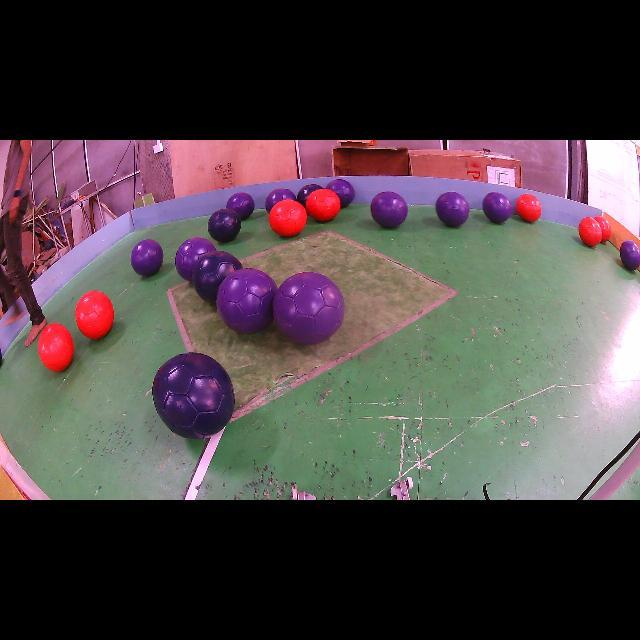B: (152, 352, 235, 439), (192, 251, 242, 304), (208, 209, 241, 242), (296, 184, 322, 208)
P: (272, 271, 345, 345), (216, 268, 278, 334), (175, 236, 216, 282), (371, 191, 408, 228), (130, 239, 164, 276), (435, 191, 469, 227), (482, 192, 512, 223), (326, 179, 355, 208), (226, 192, 255, 220), (265, 189, 296, 212), (620, 240, 640, 270)
R: (75, 291, 114, 339), (39, 324, 74, 372), (269, 199, 308, 236), (306, 189, 341, 221), (516, 194, 541, 222), (579, 216, 602, 246), (594, 216, 611, 242)
